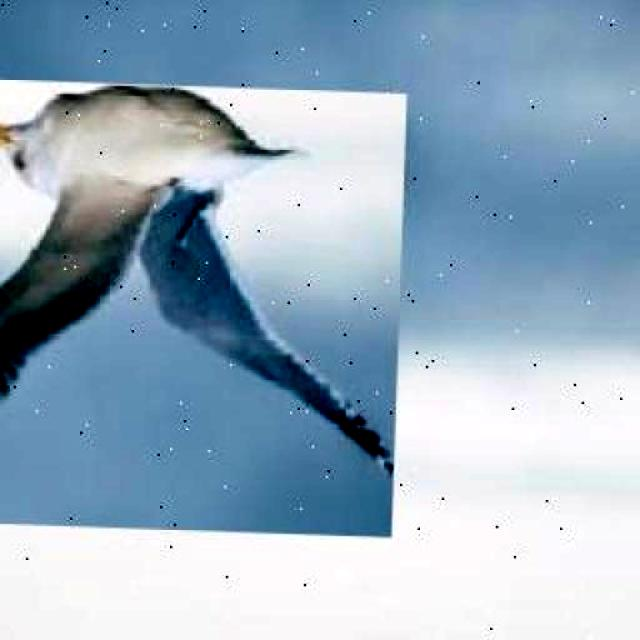airplane: (0, 76, 406, 536)
